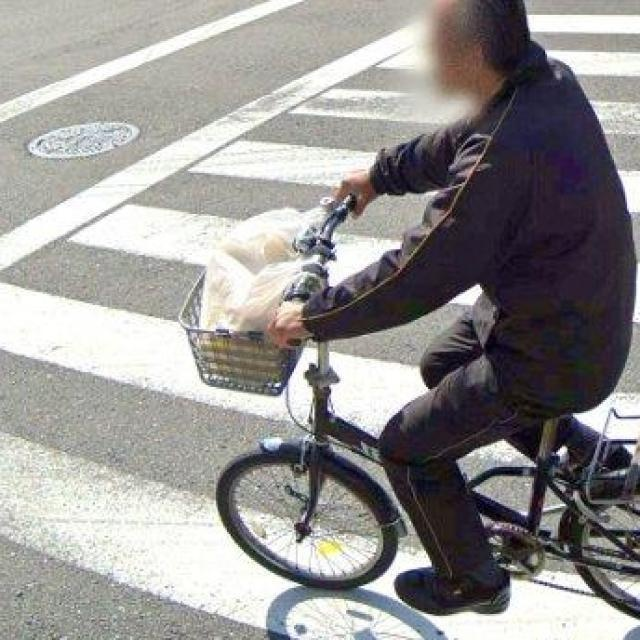bicycle: (133, 165, 639, 604)
